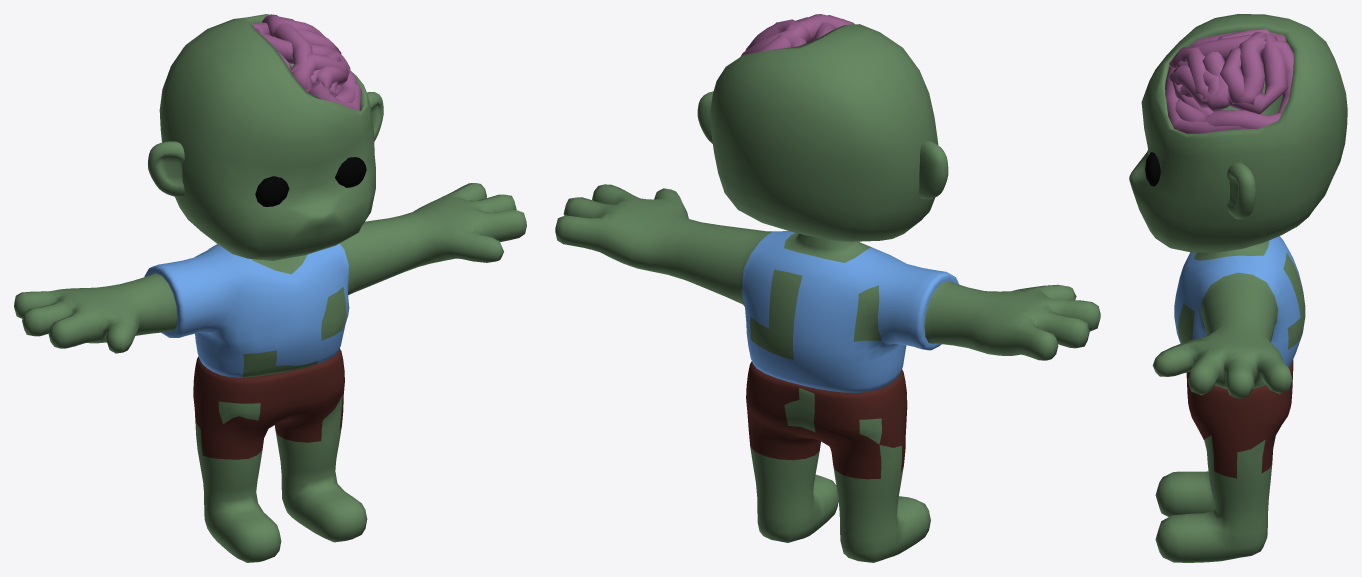
Rendered from Zombie.fbx.
The picture shows the model from 3 angles, left to right: view 1: azimuth 30°, elevation 25°; view 2: azimuth 150°, elevation 25°; view 3: azimuth 270°, elevation 25°; orthographic projection. The views are drawn at different scales.
Visible parts, largest first — view 1: Zombie; view 2: Zombie; view 3: Zombie.
Part boxes in pixels (x1,y1,x2,y2): Zombie: (14, 14, 526, 562); Zombie: (555, 14, 1100, 562); Zombie: (1129, 14, 1347, 562).
Size of the model in its own units: 132 by 128 by 49.45.
